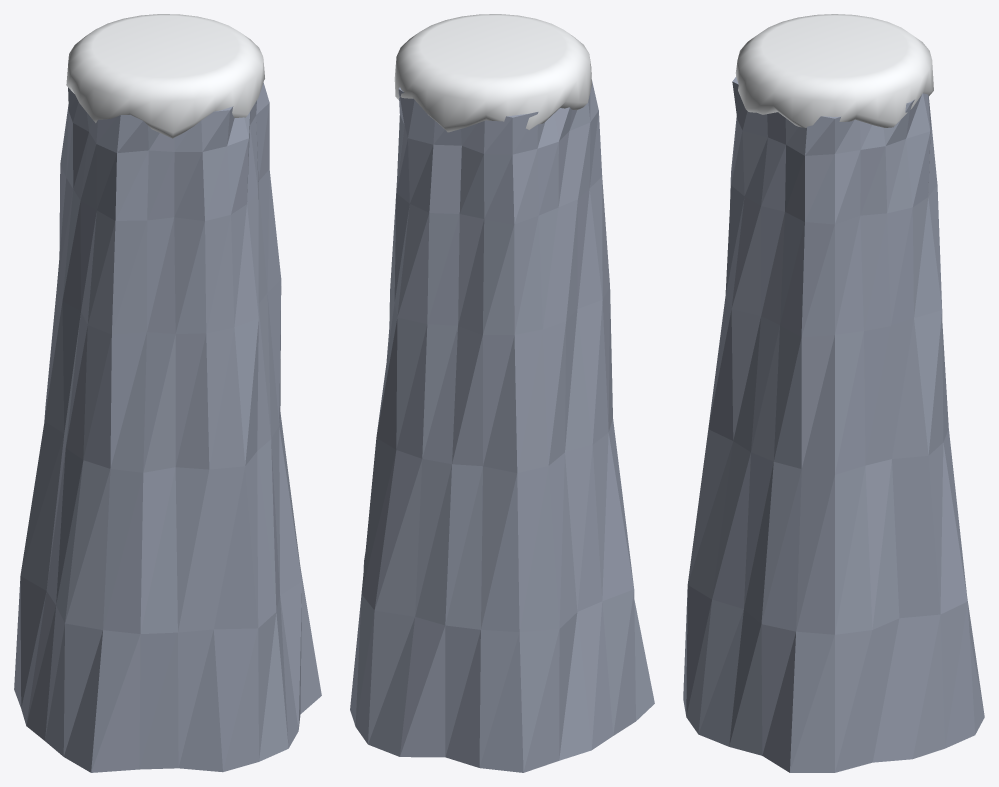
Rendered from SnowballSummitSpire.glb.
The picture shows the model from 3 angles, left to right: view 1: azimuth 30°, elevation 25°; view 2: azimuth 150°, elevation 25°; view 3: azimuth 270°, elevation 25°; orthographic projection.
Visible parts, largest first — view 1: Rock, Snow; view 2: Rock, Snow; view 3: Rock, Snow.
Part boxes in pixels (x1,y1,x2,y2): Rock: (14,63,321,772); Snow: (66,14,264,138); Rock: (350,81,654,772); Snow: (394,14,591,132); Rock: (683,76,984,772); Snow: (735,14,933,127).
Size of the model in its own units: 24.2 by 60 by 24.79.
